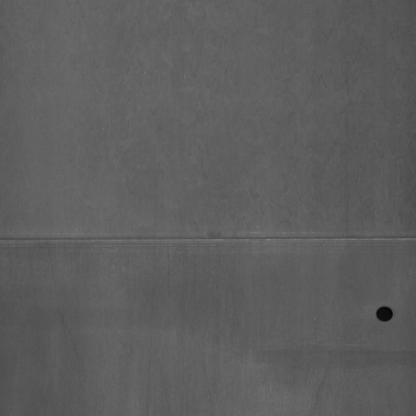punching_hole: (374, 301, 396, 327)
welding_line: (2, 227, 412, 254)
